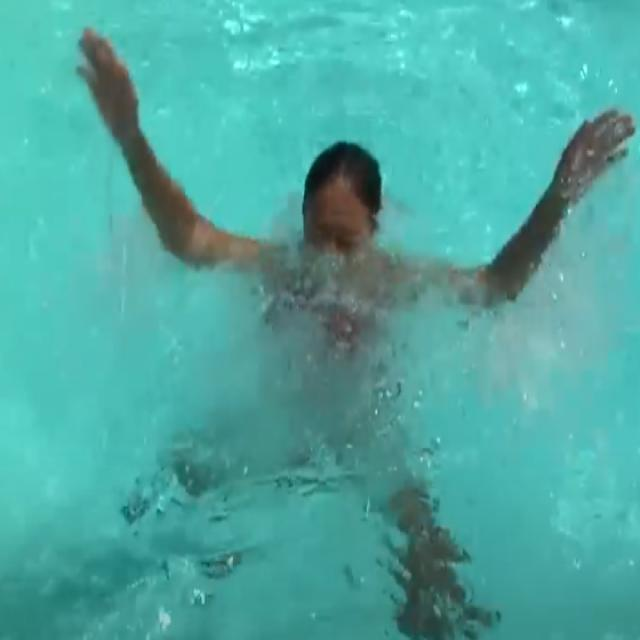Drowning: (49, 25, 636, 607)
